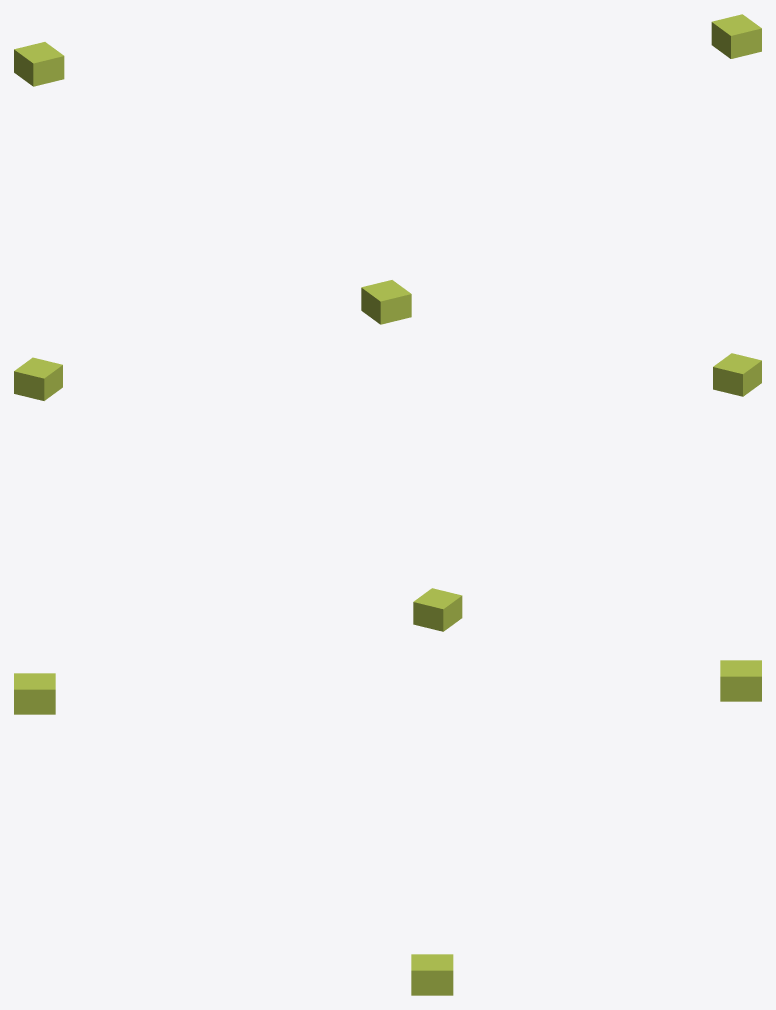
Rendered from VV_ZONE_GLB.glb.
3 views of the same model, one above another, from view 1: azimuth 30°, elevation 25°; view 2: azimuth 150°, elevation 25°; view 3: azimuth 270°, elevation 25° (orthographic). The views are drawn at different scales.
Size of the model in its own units: 0.1318 by 0.00561 by 0.1355.
